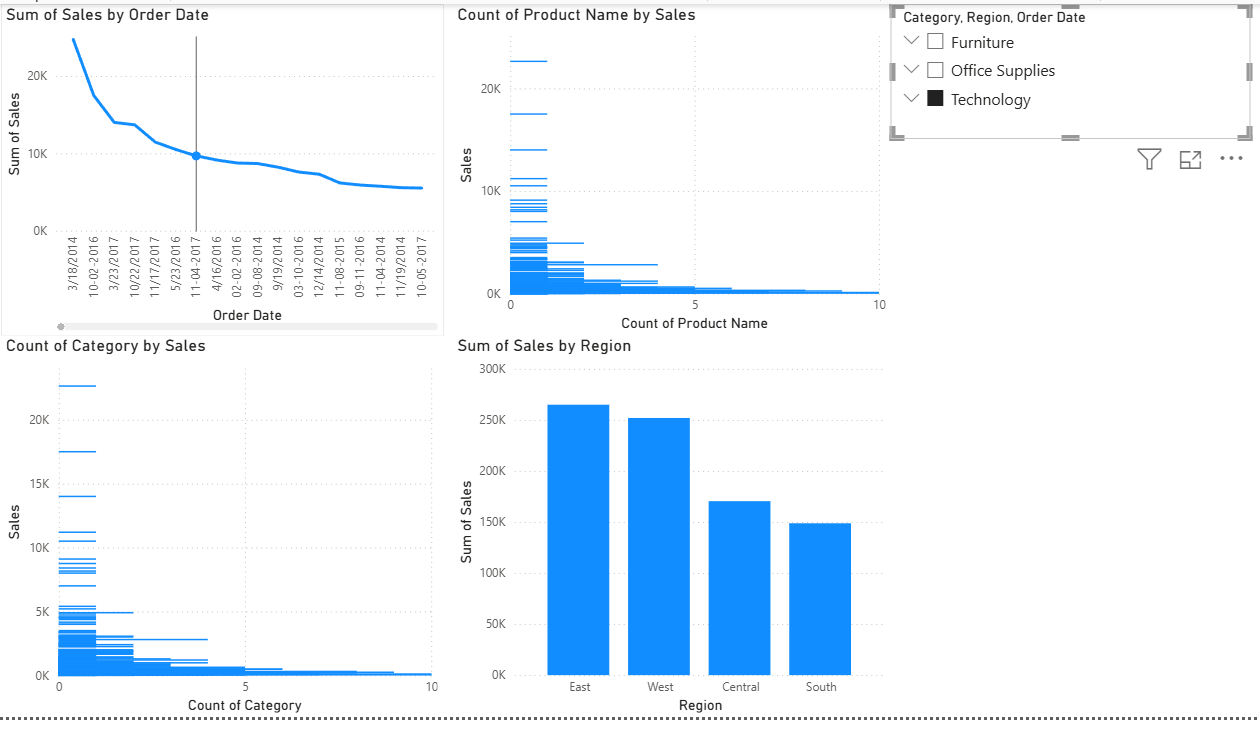

What the dashboard file says about the page in this screenshot:
{"tool":"powerbi","page":{"name":"Page 1","canvas":[1280,720],"ordinal":0},"visuals":[{"type":"lineChart","fields":{"Category":["project superstore.Order Date"],"Y":["Sum(project superstore.Sales)"]},"box":[9.4,0,446,334.5],"z":0},{"type":"clusteredBarChart","fields":{"Category":["project superstore.Sales"],"Y":["CountNonNull(project superstore.Category)"]},"box":[9.4,334.5,446,385.5],"z":1},{"type":"columnChart","fields":{"Category":["project superstore.Sales"],"Y":["CountNonNull(project superstore.Product Name)"]},"box":[464.9,0,521.6,334.5],"z":2},{"type":"columnChart","fields":{"Y":["Sum(project superstore.Sales)"],"Category":["project superstore.Region"]},"box":[464.9,334.5,442.2,385.5],"z":3},{"type":"slicer","fields":{"Values":["project superstore.Category","project superstore.Region","project superstore.Order Date"]},"box":[907.1,0,362.8,136.1],"z":4}]}

Visuals, with their boxes on the page's 1280x720 design canvas (x1, y1, x2, y2). These are canvas units, not pixel positions in the 1260x742 screenshot, which may show the page scaled, cropped or inside an application window:
lineChart - project superstore.Order Date x Sum(project superstore.Sales): 9, 0, 455, 334
clusteredBarChart - project superstore.Sales x CountNonNull(project superstore.Category): 9, 334, 455, 720
columnChart - project superstore.Sales x CountNonNull(project superstore.Product Name): 465, 0, 986, 334
columnChart - Sum(project superstore.Sales) x project superstore.Region: 465, 334, 907, 720
slicer - project superstore.Category x project superstore.Region: 907, 0, 1270, 136
